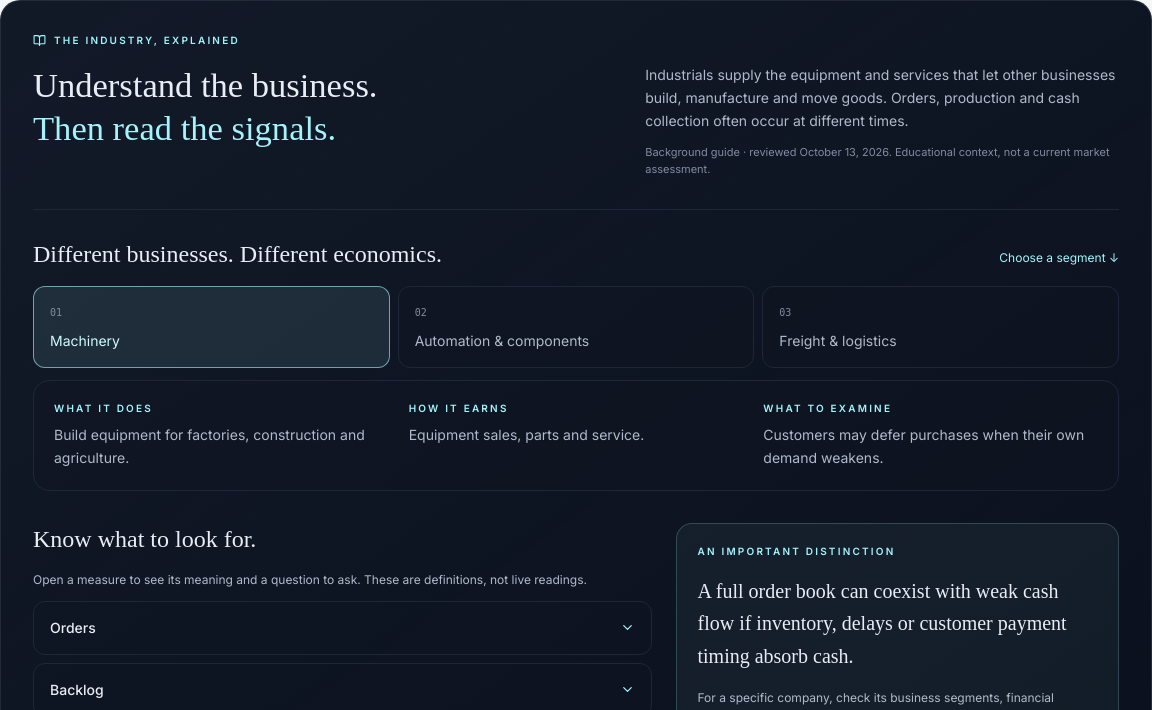
Scenario: provides a usable distinct guide for industrials even without reporting
Click the button "02 Automation & components" at point(502, 341), box [398,286,754,368]
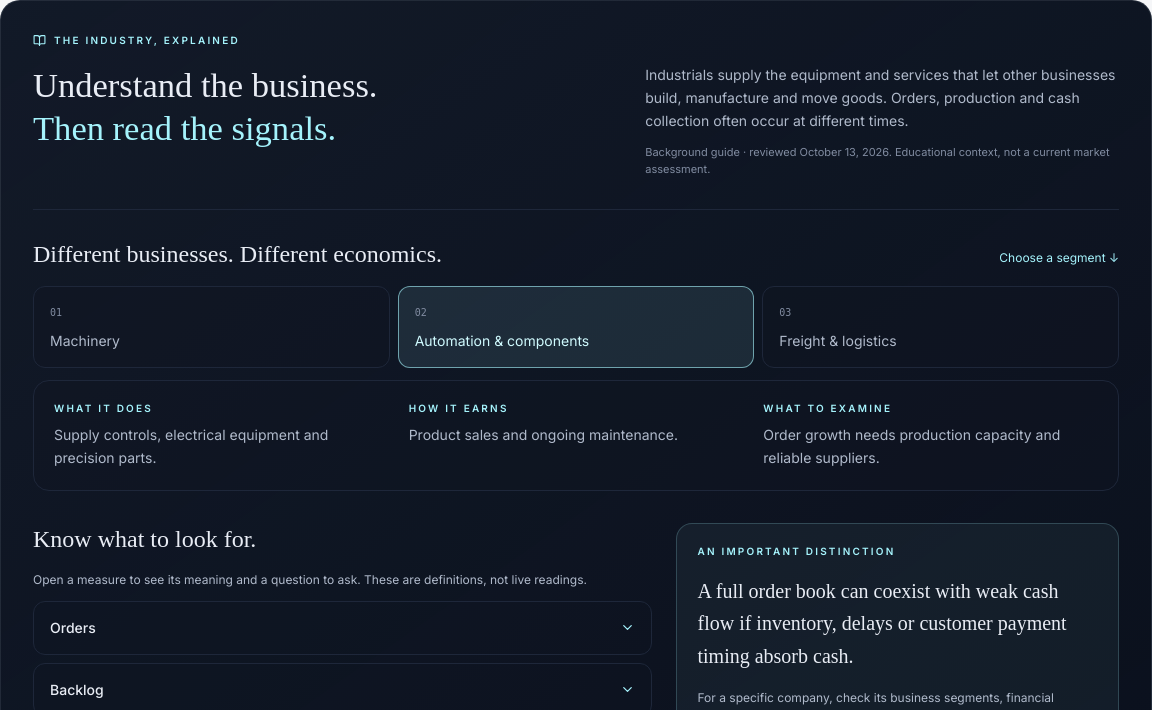
Expected: the text "definitions, not live readings" is shown, [33,572,587,587]
Now the text "Product sales and ongoing maintenance." is shown, box [409,426,678,443]
Now the text "Equipment sales, parts and service." is gone
